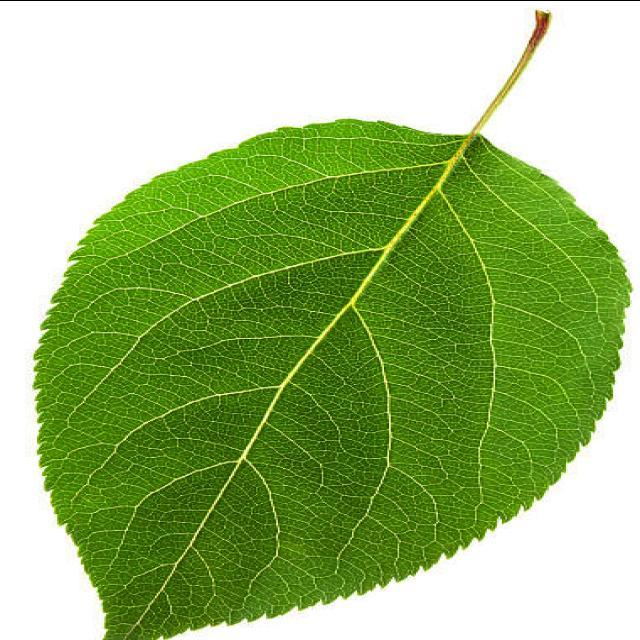leaf: (31, 9, 633, 638)
